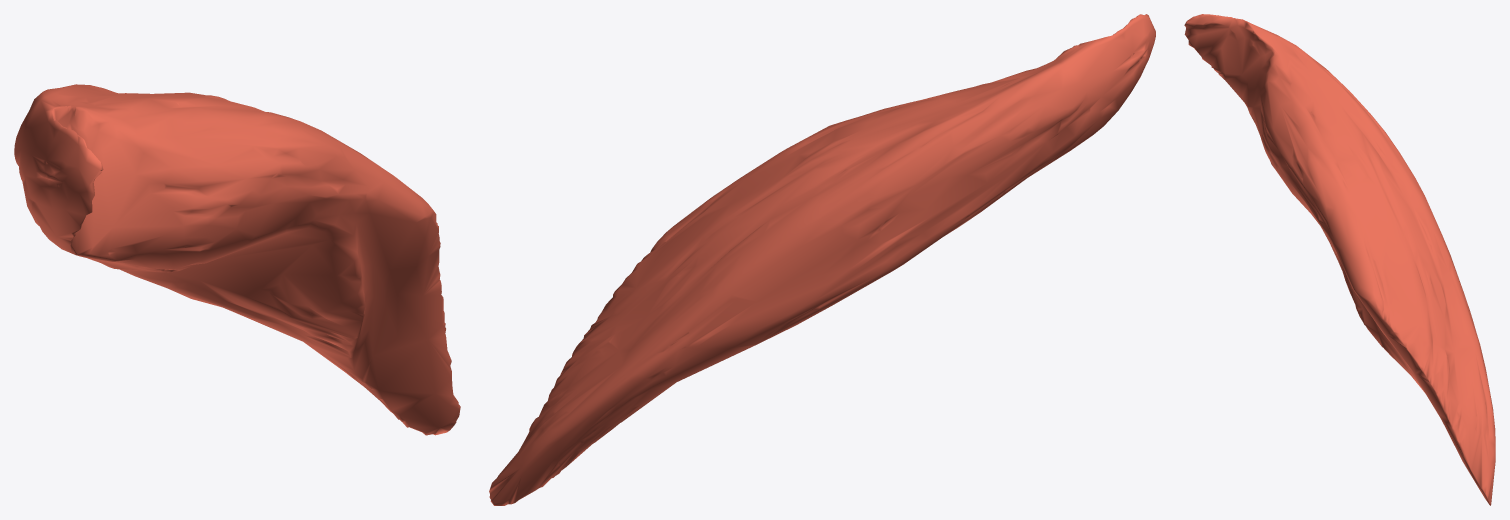
The model's file is teres-minor.glb.
The picture shows the model from 3 angles, left to right: view 1: azimuth 30°, elevation 25°; view 2: azimuth 150°, elevation 25°; view 3: azimuth 270°, elevation 25°; orthographic projection. The views are drawn at different scales.
Visible parts, largest first — view 1: Teres minor muscle.r; view 2: Teres minor muscle.r; view 3: Teres minor muscle.r.
Part boxes in pixels (x1,y1,x2,y2): Teres minor muscle.r: (14, 84, 460, 435); Teres minor muscle.r: (489, 14, 1155, 505); Teres minor muscle.r: (1184, 14, 1495, 505).
Bounding box in the file's own units: 0.0961 × 0.0895 × 0.0759.
